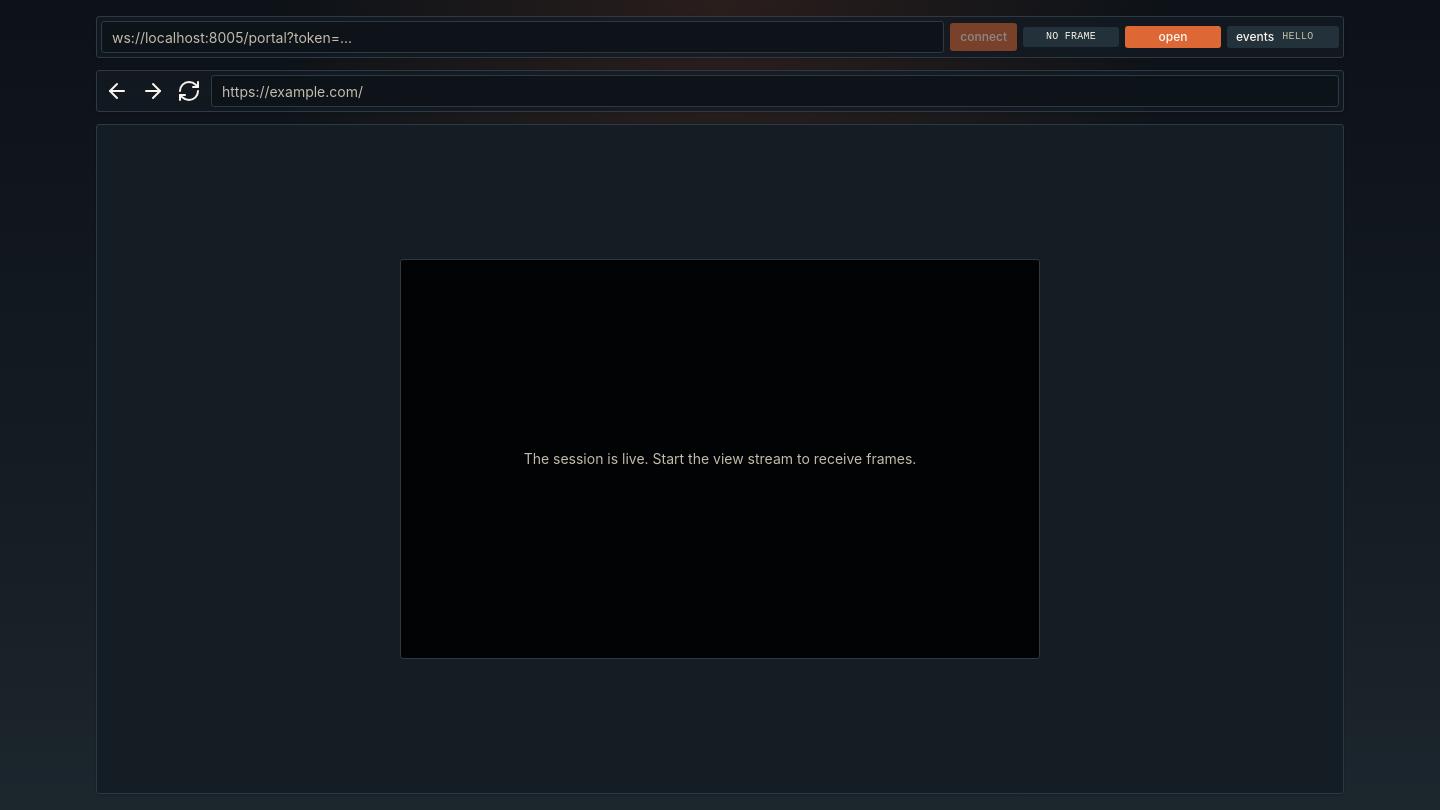
App › renders sent and received events together in the list
The width and height of the screenshot is (1440, 810).
Hover over the button with test id "events-toolbar-trigger" at (1283, 37), box 1227,26 -> 1339,48
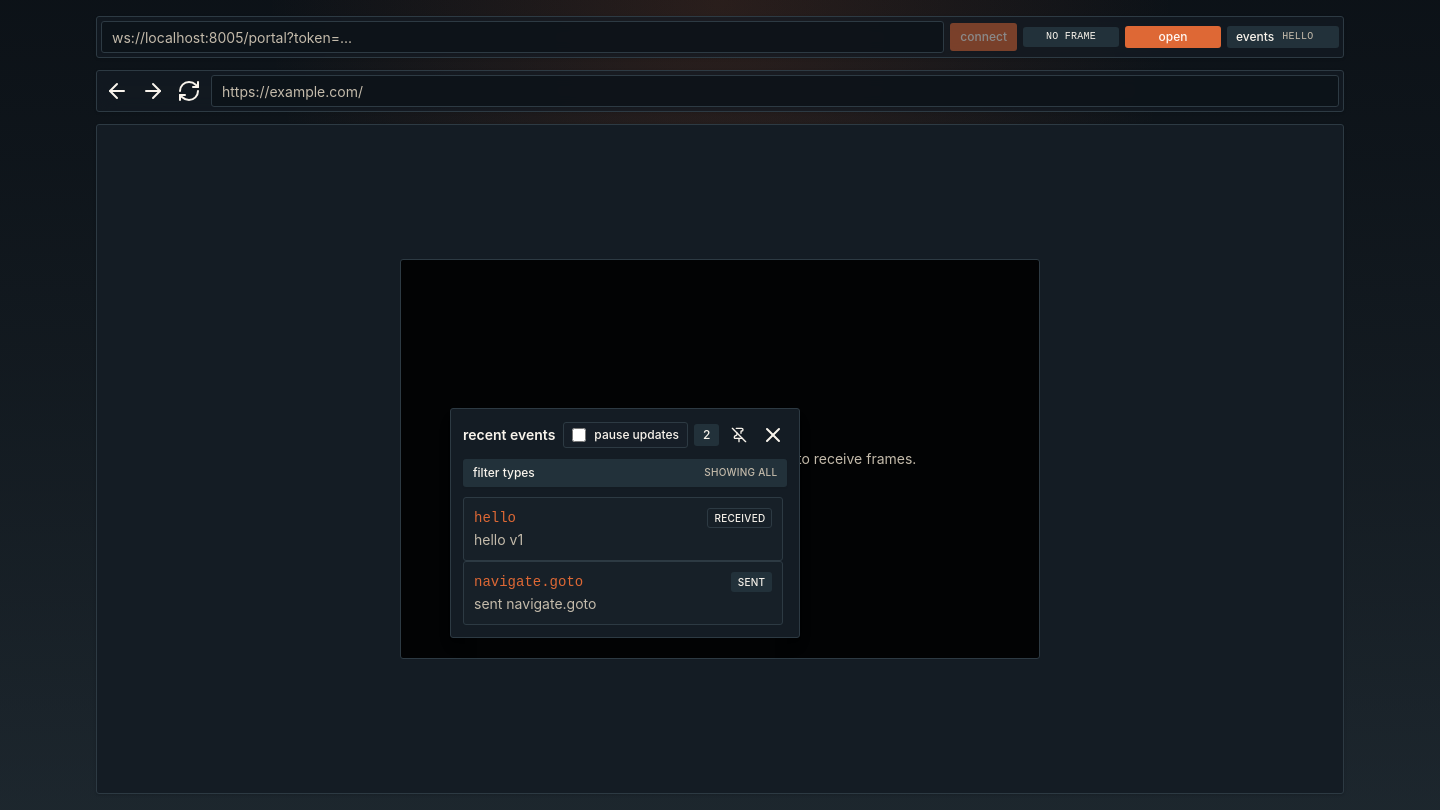
Expected: the text "recent events" is shown, 463,428 -> 555,442
Expected: the text "sent" is shown, 731,572 -> 772,592
Expected: the text "received" is shown, 708,508 -> 772,528
